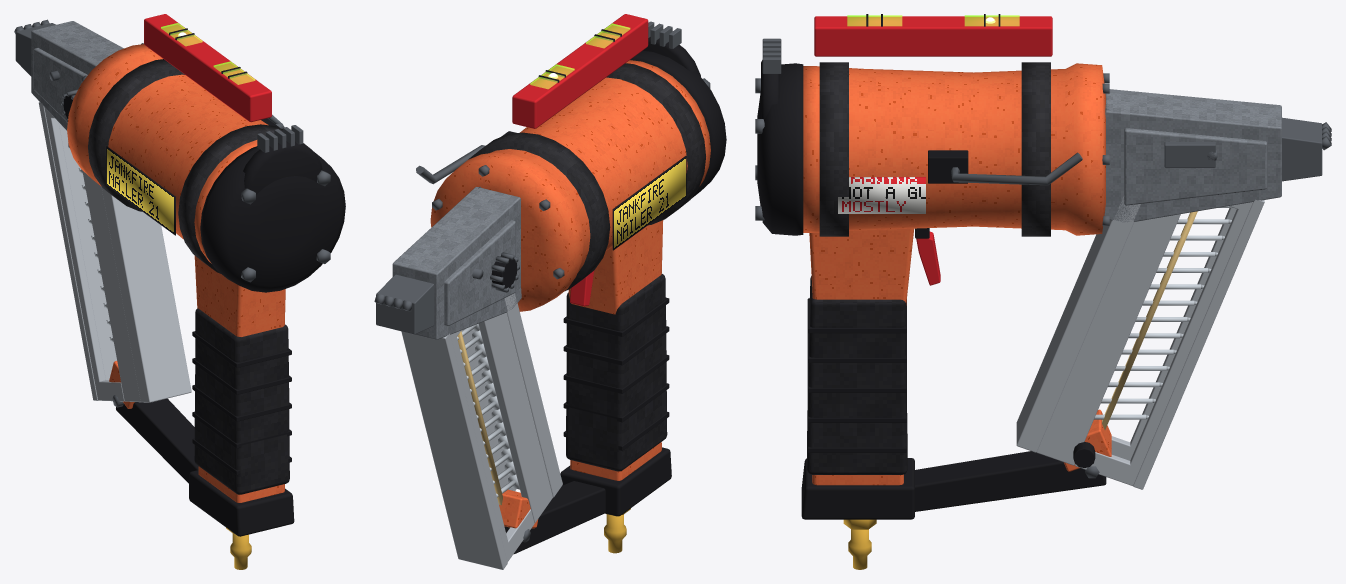
File: w_nailgun.glb
The picture shows the model from 3 angles, left to right: view 1: azimuth 30°, elevation 25°; view 2: azimuth 150°, elevation 25°; view 3: azimuth 270°, elevation 25°; orthographic projection. The views are drawn at different scales.
Visible parts, largest first — view 1: nailgun_body_wzA, nailgun_body_wzB, nailgun_body_wzN; view 2: nailgun_body_wzA, nailgun_body_wzB, nailgun_body_wzN; view 3: nailgun_body_wzA, nailgun_body_wzB, nailgun_body_wzN.
Part boxes in pixels (x1,y1,x2,y2): nailgun_body_wzA: [38, 44, 289, 502]; nailgun_body_wzB: [14, 19, 345, 536]; nailgun_body_wzN: [78, 14, 311, 569]; nailgun_body_wzA: [401, 60, 710, 569]; nailgun_body_wzB: [374, 21, 726, 553]; nailgun_body_wzN: [457, 14, 705, 553]; nailgun_body_wzA: [803, 63, 1264, 489]; nailgun_body_wzB: [755, 14, 1331, 519]; nailgun_body_wzN: [814, 15, 1233, 569].
Size of the model in its own units: 0.1793 by 0.5283 by 0.5024.
15 materials, 6 textured.
